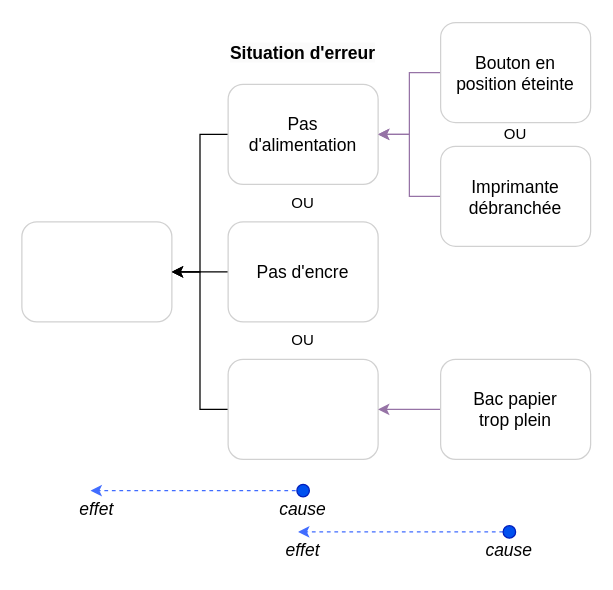
Image size: 613x590. Some labels were removed from this diagram. Each missing label, with the centre of its shape:
"Bourrage papier" belongs at point 302,408.
"Imprimante non fonctionnelle" belongs at point 96,271.
